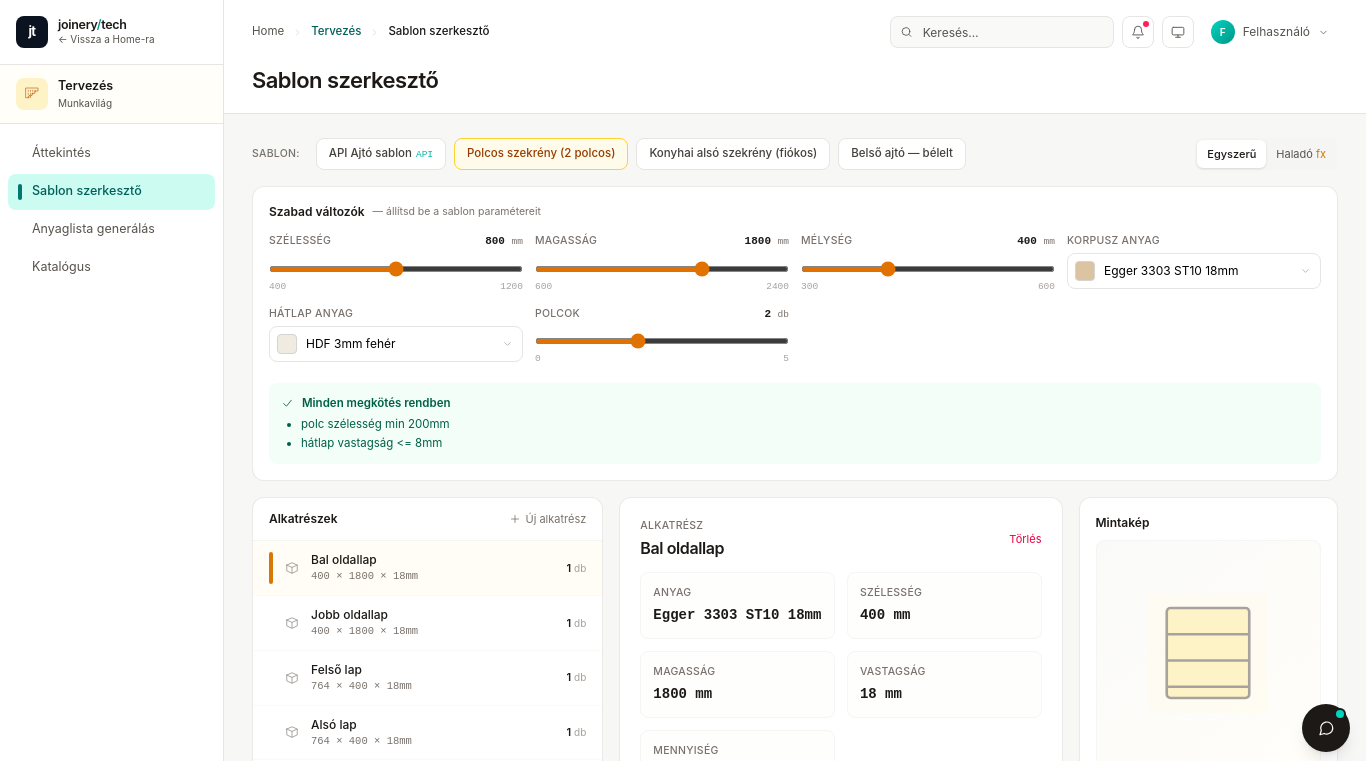
Test: DesignPage › clicking API template shows ApiParamWizard with loaded params
Click the button "API Ajtó sablon" at (381, 154), box [316,138,446,170]
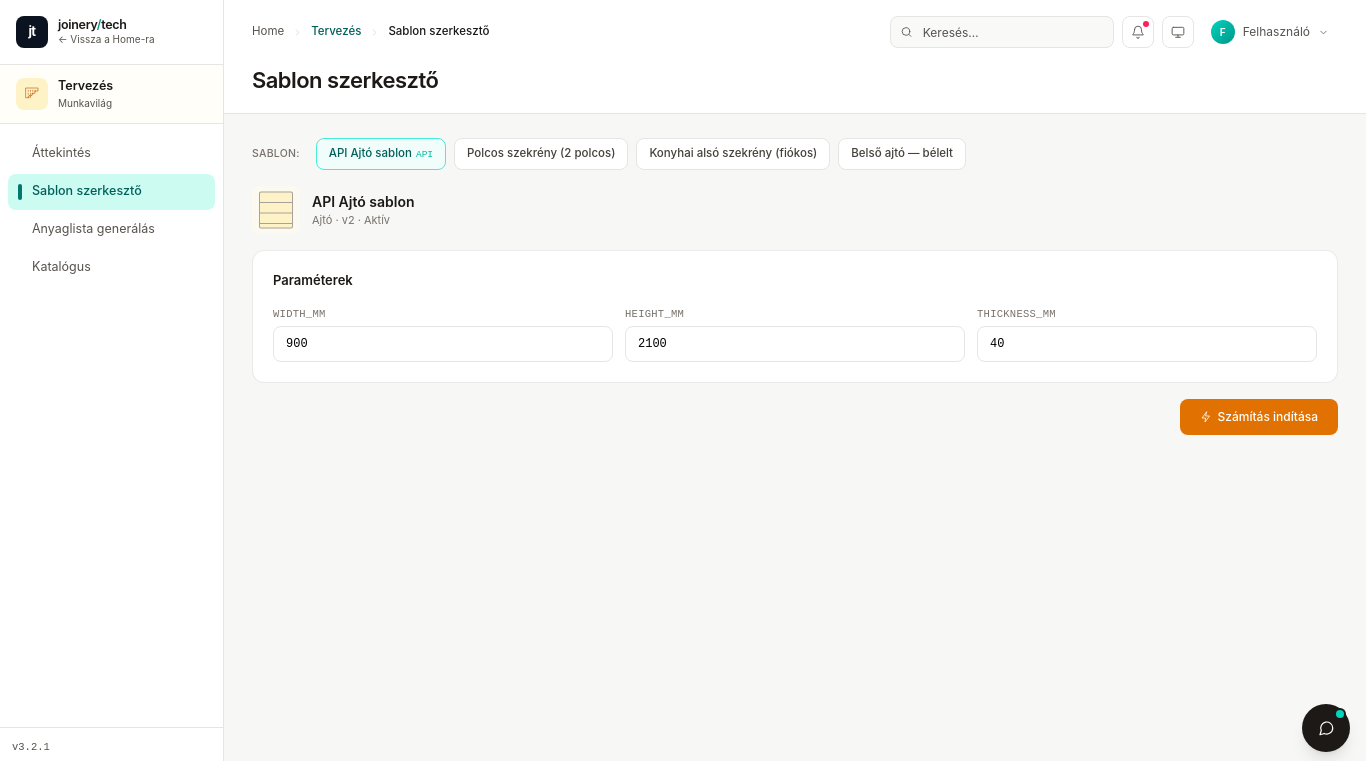
Result: the text "Paraméterek" is shown at [273,272,353,288]
